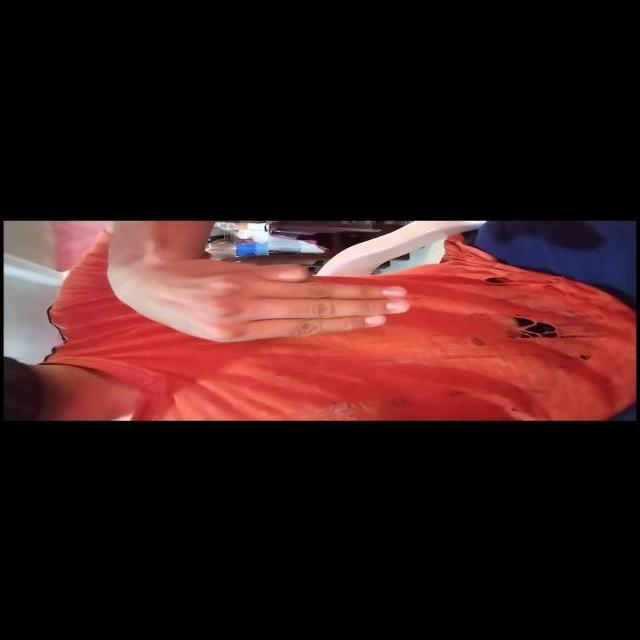M: (74, 245, 423, 346)
